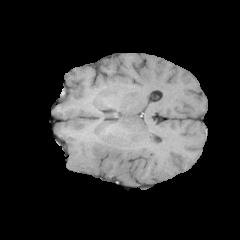glioma: (68, 114, 156, 172)
